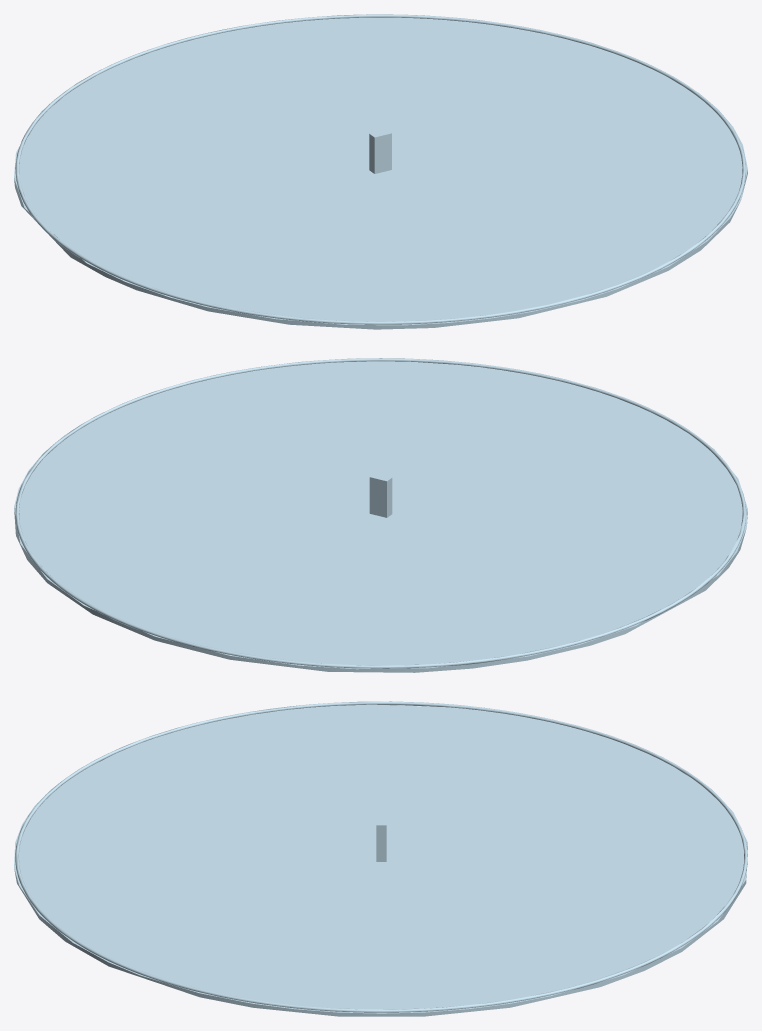
Rendered from solar_array_lod2.glb.
The picture shows the model from 3 angles, top to bottom: view 1: azimuth 30°, elevation 25°; view 2: azimuth 150°, elevation 25°; view 3: azimuth 270°, elevation 25°; orthographic projection.
Parts seen in each view (by area): view 1: Solar disc, Solar rim, Roof console; view 2: Solar disc, Solar rim, Roof console; view 3: Solar disc, Solar rim.
Boxes of the visible parts, x1,y1,x2,y2 form: Solar disc: (14,17,747,329); Solar rim: (15,14,745,324); Roof console: (369,129,391,173); Solar disc: (14,361,747,672); Solar rim: (15,358,746,668); Roof console: (369,473,392,517); Solar disc: (14,704,747,1016); Solar rim: (15,701,747,1012).
Size of the model in its own units: 19.99 by 1.23 by 19.93.
